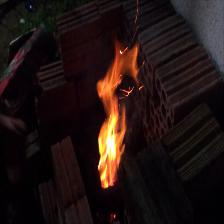fire: (81, 28, 170, 207)
